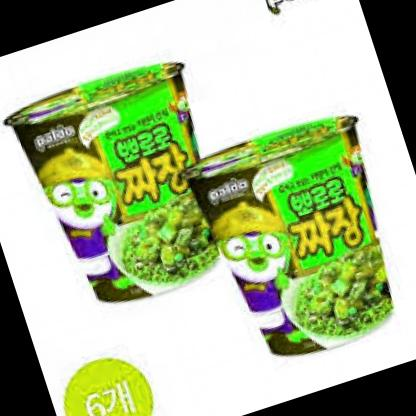Ramen: (0, 40, 251, 322), (179, 103, 416, 377)
